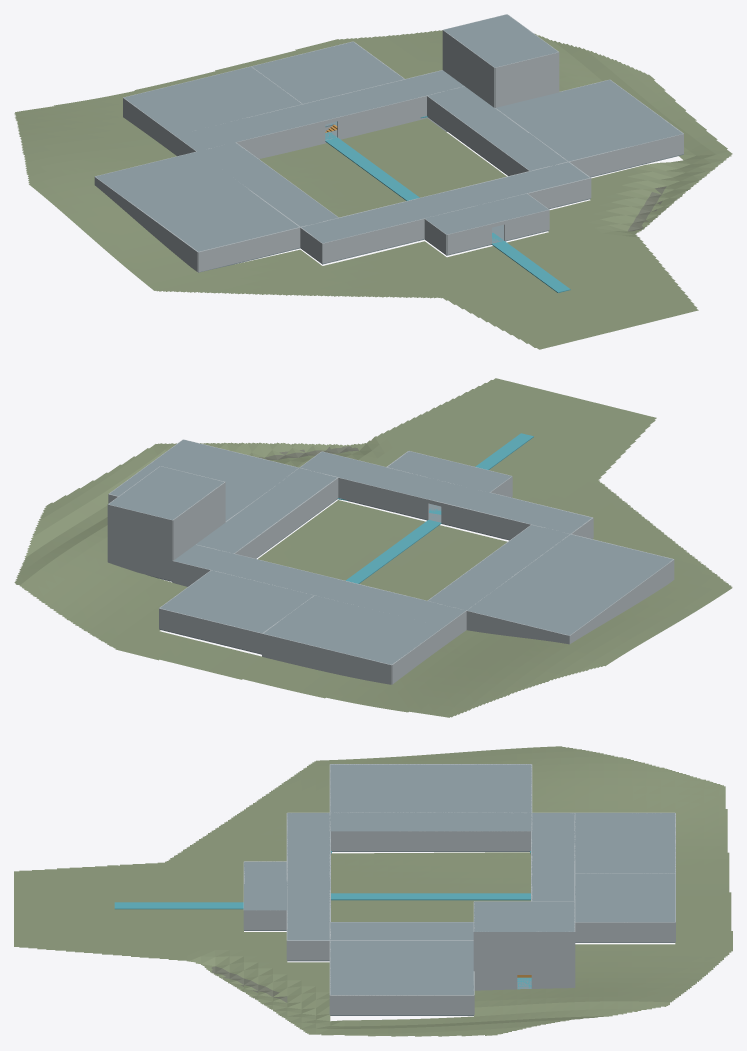
The model's file is terrain-assembly.glb.
3 renders of one model, top to bottom at view 1: azimuth 30°, elevation 25°; view 2: azimuth 150°, elevation 25°; view 3: azimuth 270°, elevation 25°, orthographic. The views are drawn at different scales.
Parts seen in each view (by area): view 1: Saved editor macroterrain WLD-10, Ceiling cap dorm, Ceiling cap refectory, Ceiling cap archive, Ceiling cap north, Ceiling cap south, Ceiling cap vestry, Ceiling cap west, Ceiling cap east, Ceiling cap bell, Ceiling cap gatehouse, Wall refectory S (+16 smaller); view 2: Saved editor macroterrain WLD-10, Ceiling cap dorm, Ceiling cap archive, Ceiling cap north, Ceiling cap south, Ceiling cap vestry, Ceiling cap refectory, Ceiling cap west, Ceiling cap east, Ceiling cap bell, Wall archive N, Wall tower-base N (+13 smaller); view 3: Saved editor macroterrain WLD-10, Ceiling cap dorm, Ceiling cap refectory, Ceiling cap archive, Ceiling cap south, Ceiling cap vestry, Wall west E, Ceiling cap north, Ceiling cap west, Ceiling cap bell, Wall refectory E, Ceiling cap east (+9 smaller).
Boxes of the visible parts, bbox=[...] form: Saved editor macroterrain WLD-10: bbox=[14, 30, 732, 349]; Ceiling cap dorm: bbox=[95, 152, 299, 251]; Ceiling cap refectory: bbox=[496, 80, 682, 161]; Ceiling cap archive: bbox=[124, 66, 301, 135]; Ceiling cap north: bbox=[175, 70, 464, 151]; Ceiling cap south: bbox=[301, 162, 589, 243]; Ceiling cap vestry: bbox=[252, 42, 403, 103]; Ceiling cap west: bbox=[197, 142, 338, 226]; Ceiling cap east: bbox=[427, 86, 567, 170]; Ceiling cap bell: bbox=[444, 14, 558, 67]; Ceiling cap gatehouse: bbox=[425, 193, 548, 234]; Wall refectory S: bbox=[568, 134, 683, 176]; Saved editor macroterrain WLD-10: bbox=[14, 378, 732, 717]; Ceiling cap dorm: bbox=[467, 534, 672, 635]; Ceiling cap archive: bbox=[263, 595, 443, 664]; Ceiling cap north: bbox=[174, 544, 465, 626]; Ceiling cap south: bbox=[300, 451, 591, 533]; Ceiling cap vestry: bbox=[160, 570, 313, 632]; Ceiling cap refectory: bbox=[109, 440, 298, 521]; Ceiling cap west: bbox=[428, 525, 569, 610]; Ceiling cap east: bbox=[196, 468, 337, 553]; Ceiling cap bell: bbox=[108, 466, 223, 519]; Wall archive N: bbox=[262, 633, 391, 684]; Wall tower-base N: bbox=[108, 525, 172, 580]; Saved editor macroterrain WLD-10: bbox=[14, 746, 732, 1036]; Ceiling cap dorm: bbox=[330, 764, 531, 812]; Ceiling cap refectory: bbox=[330, 941, 473, 995]; Ceiling cap archive: bbox=[574, 813, 675, 873]; Ceiling cap south: bbox=[287, 813, 330, 940]; Ceiling cap vestry: bbox=[575, 874, 675, 922]; Wall west E: bbox=[331, 831, 530, 850]; Ceiling cap north: bbox=[531, 813, 574, 901]; Ceiling cap west: bbox=[330, 813, 531, 831]; Ceiling cap bell: bbox=[474, 901, 574, 931]; Wall refectory E: bbox=[330, 995, 473, 1014]; Ceiling cap east: bbox=[330, 922, 473, 940].
Bounding box in the file's own units: 92 × 12.16 × 100.
